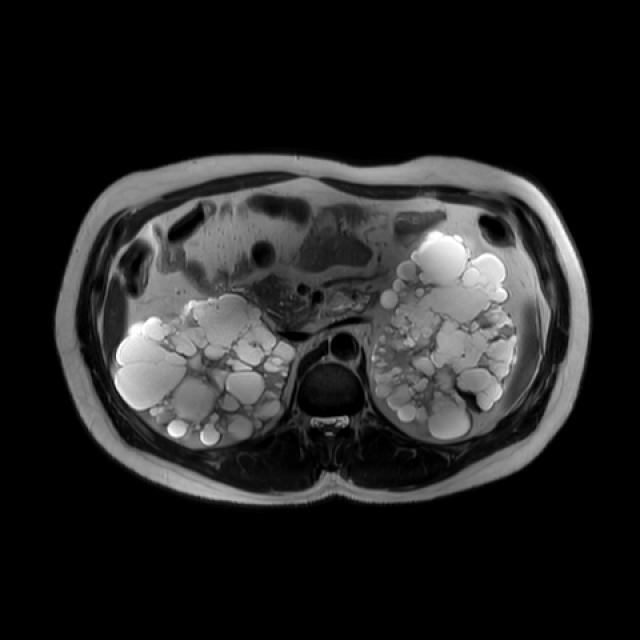sag: (113, 293, 297, 449)
sol: (369, 230, 518, 439)
